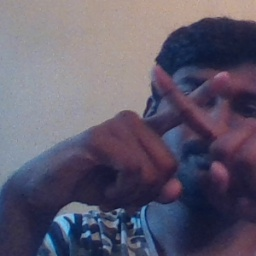X: (115, 54, 250, 199)
